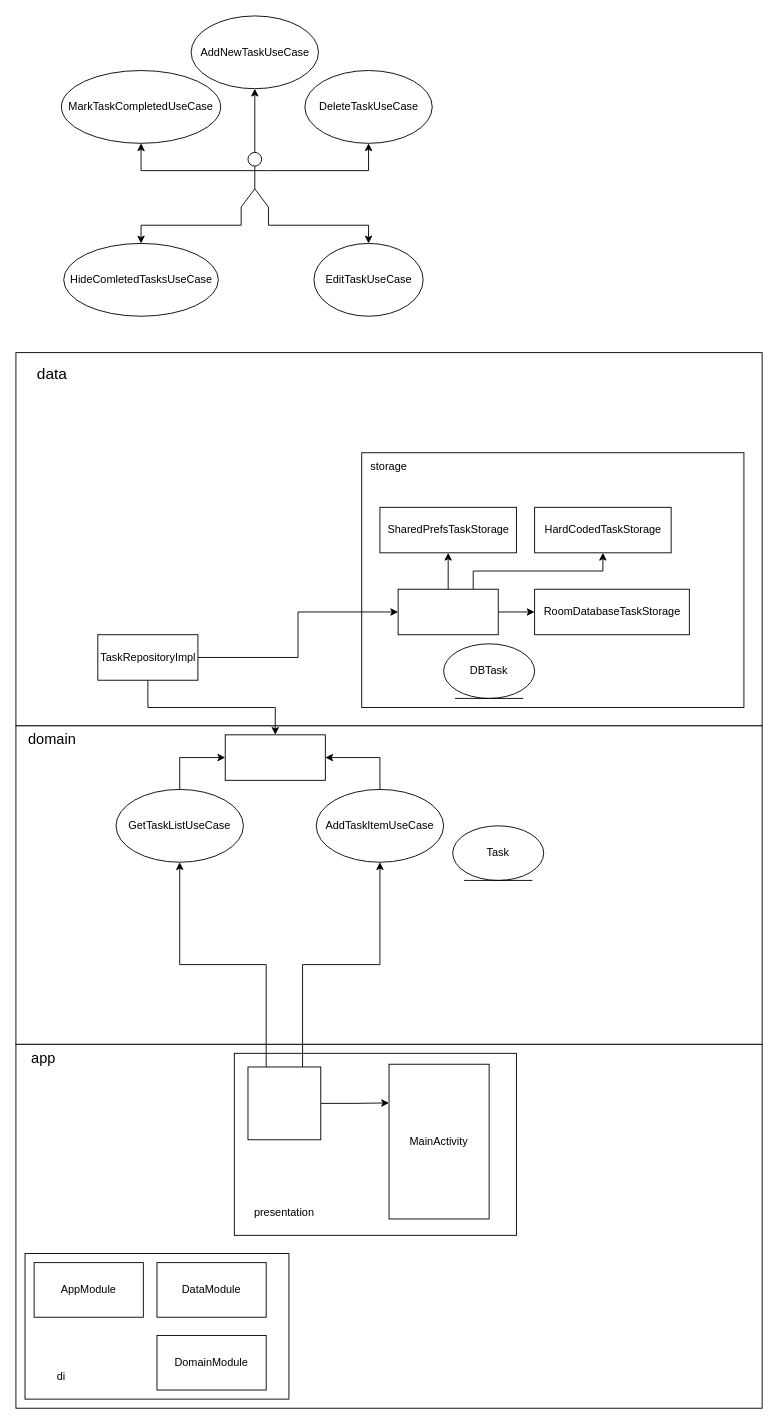
The diagram is 778 pixels wide and 1424 high, and some of its shapes have lost their labels. The box of each missing label's shape, as (x1, y1, x2, y2) in pixels:
Actor: (240, 152, 268, 207)
ViewModel: (247, 1066, 321, 1140)
«interface» TaskRepository: (224, 734, 325, 780)
«interface» UserStorage: (397, 588, 498, 635)
